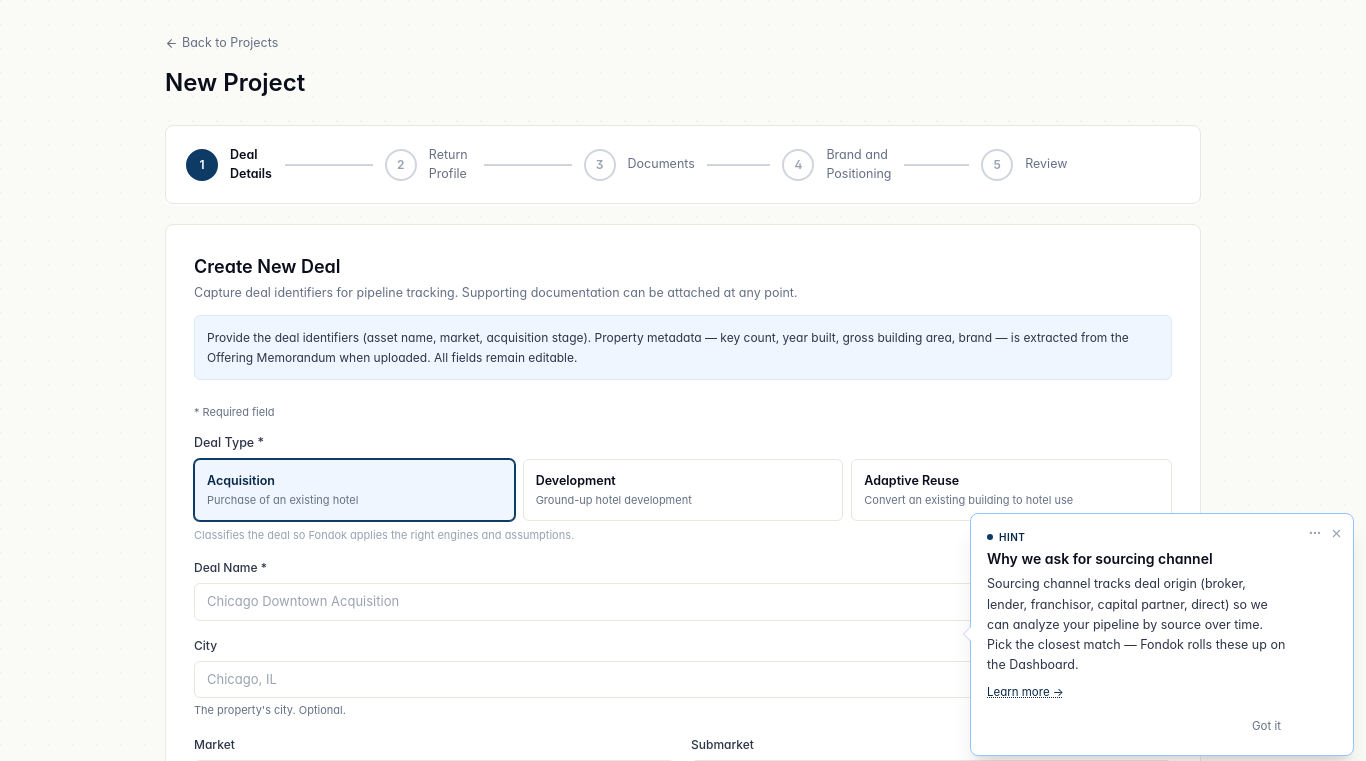
R-012 — City / Submarket suggestions + normalization › normalizes on blur and sends the canonical spelling on create
The width and height of the screenshot is (1366, 761).
Type "City Deal" into the field with placeholder "Chicago Downtown Acquisition" at (683, 602), box top-left (194, 583), bottom-right (1172, 621)
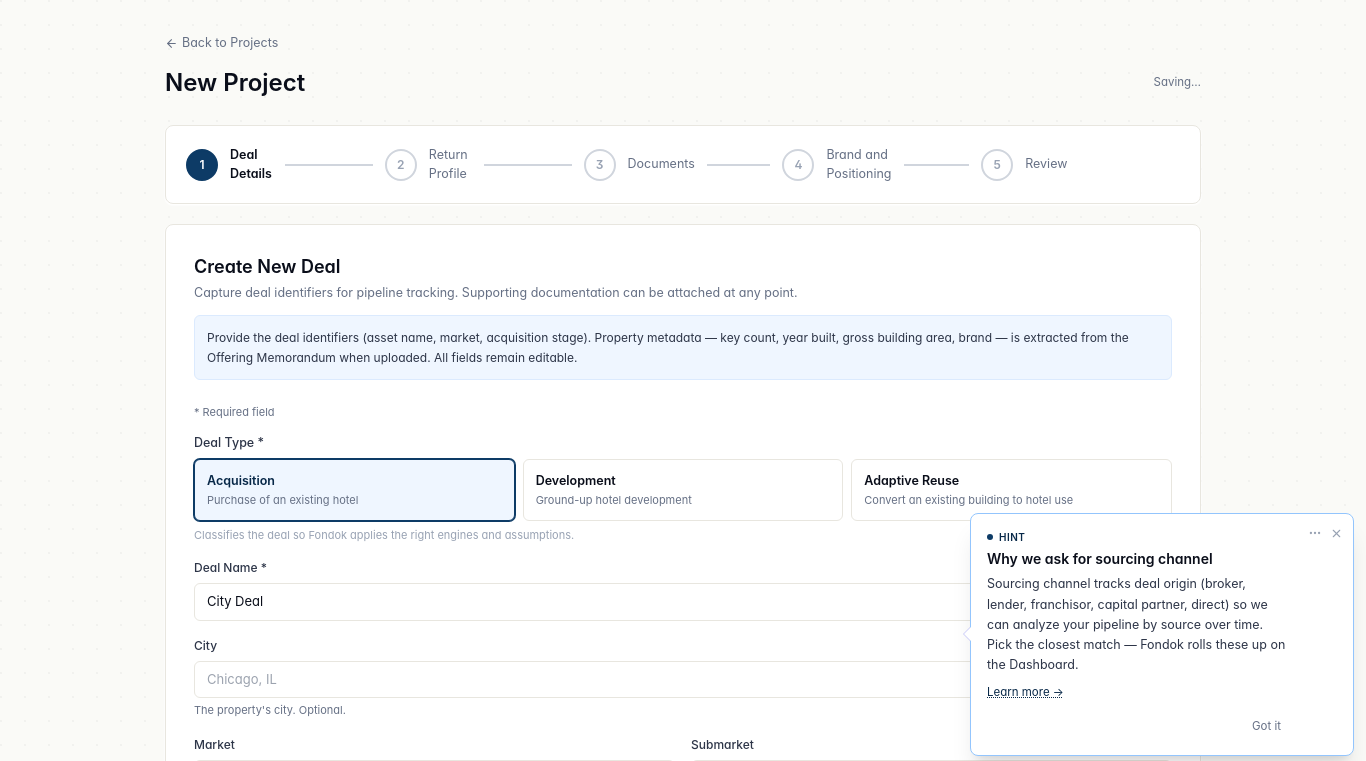
Type "  washington   dc " into the field with placeholder "Chicago, IL" at (683, 679), box top-left (194, 661), bottom-right (1172, 698)
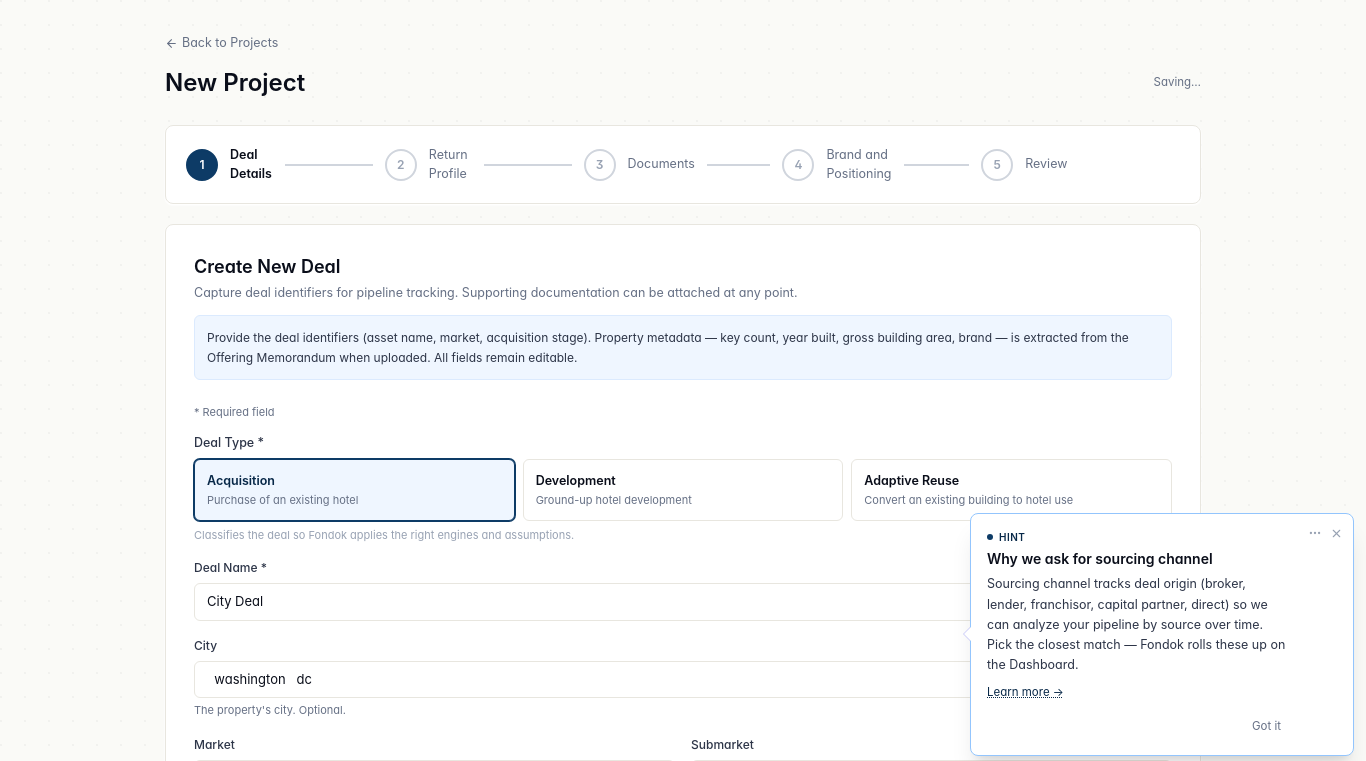
Leave the 2nd field with placeholder "Chicago, IL", box top-left (194, 661), bottom-right (1172, 698)
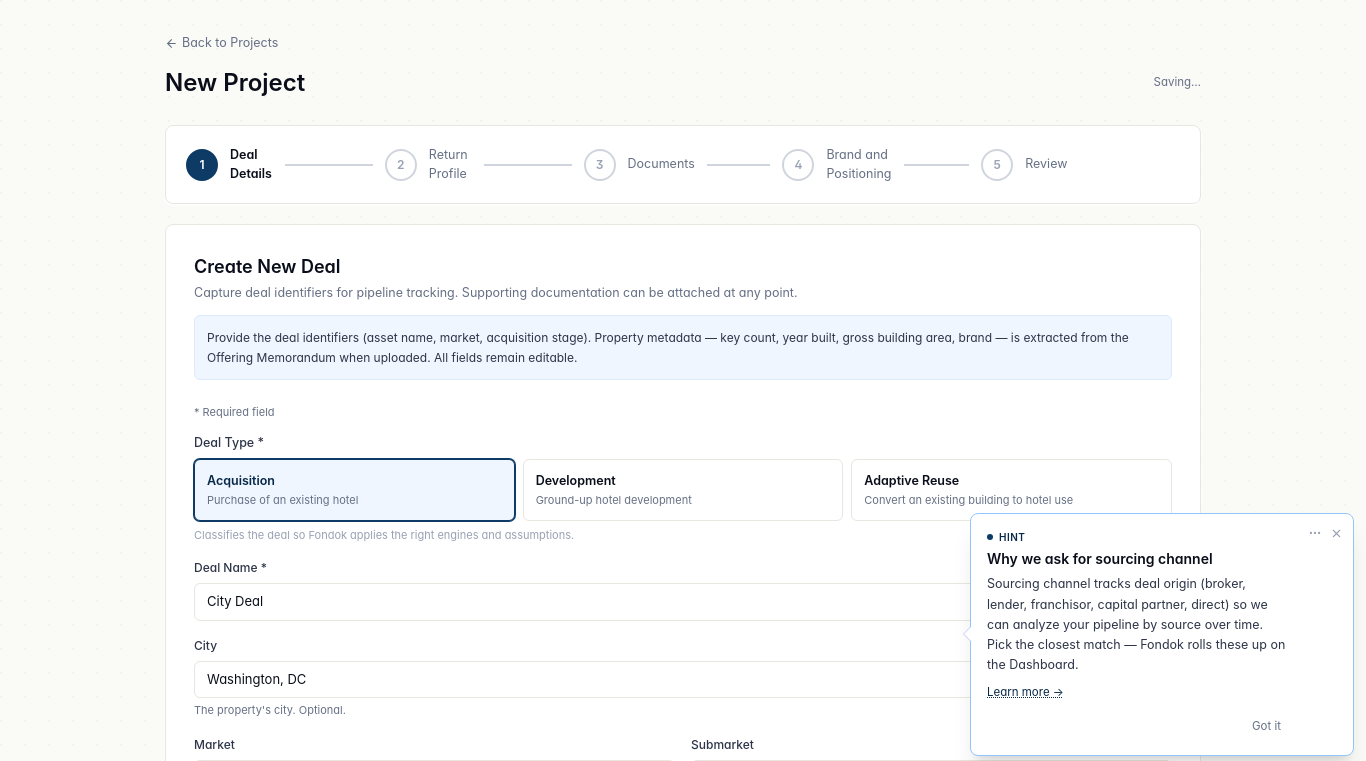
Expected: the 2nd field with placeholder "Chicago, IL" holds "Washington, DC"
Replace the text in the 2nd field with placeholder "Chicago, IL" with "River North ,Chicago" at (683, 679), box top-left (194, 661), bottom-right (1172, 698)
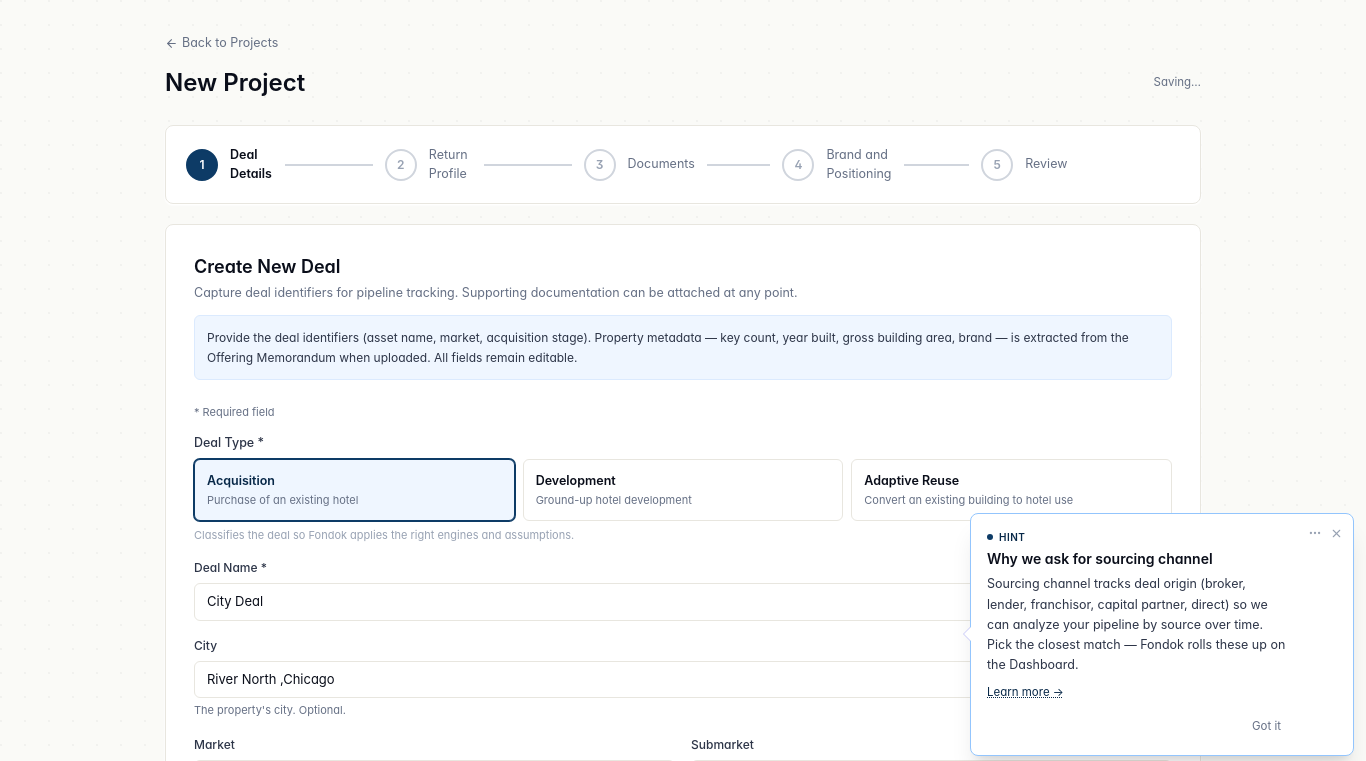
Leave the 2nd field with placeholder "Chicago, IL", box top-left (194, 661), bottom-right (1172, 698)
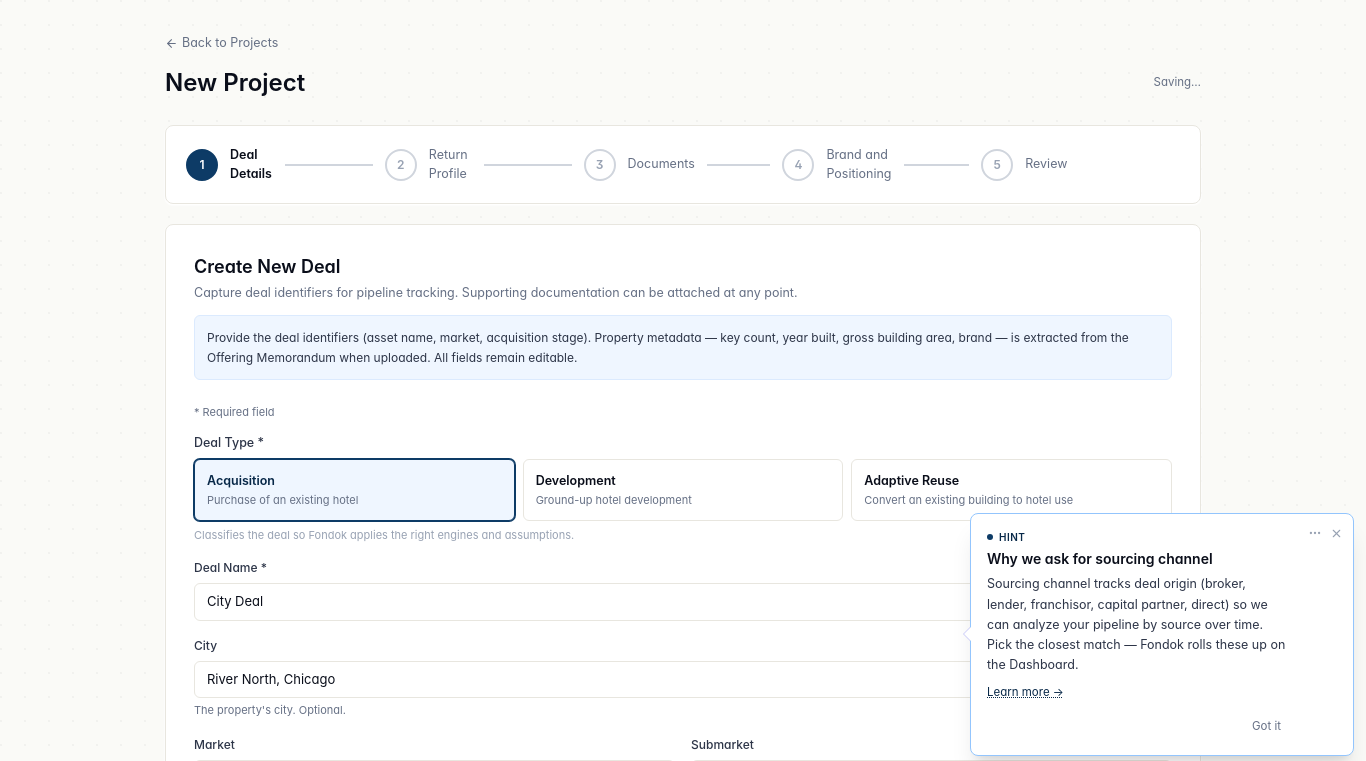
Expected: the 2nd field with placeholder "Chicago, IL" holds "River North, Chicago", top-left (194, 661), bottom-right (1172, 698)
